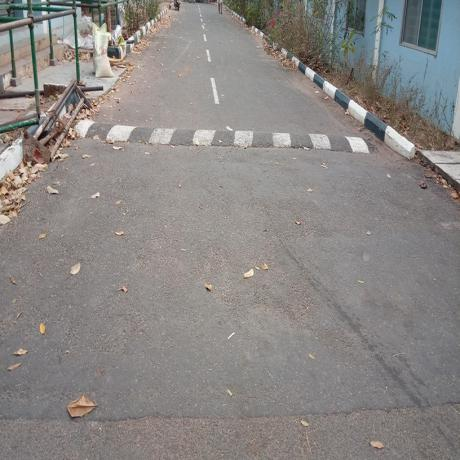Speed Bump: (69, 113, 376, 154)
